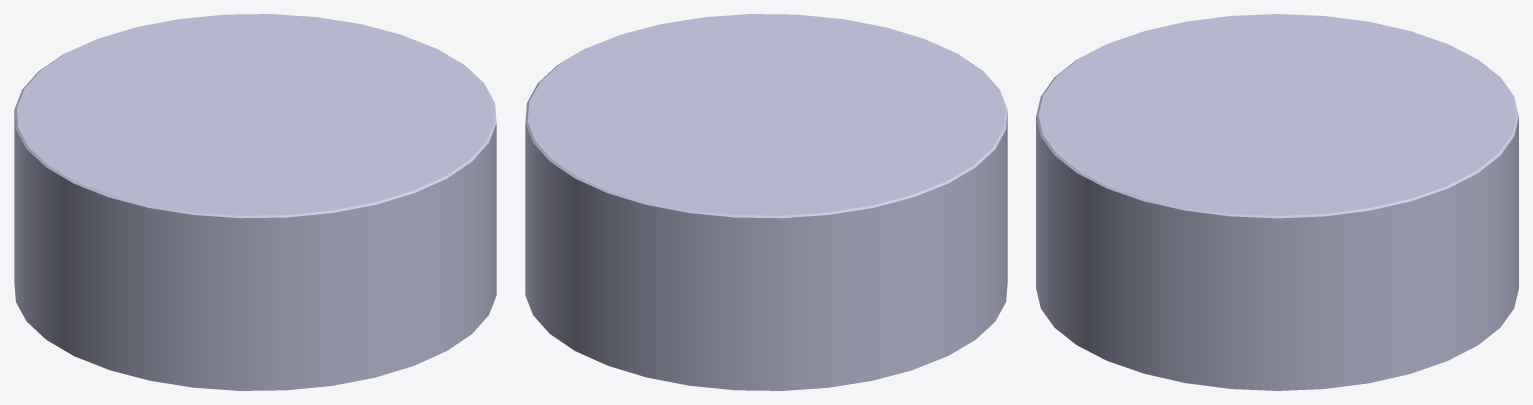
Rendered from SM_stand_4.fbx.
3 views of the same model, side by side, from view 1: azimuth 30°, elevation 25°; view 2: azimuth 150°, elevation 25°; view 3: azimuth 270°, elevation 25° (orthographic).
Parts seen in each view (by area): view 1: SM_stand_4; view 2: SM_stand_4; view 3: SM_stand_4.
Part boxes in pixels (x1,y1,x2,y2): SM_stand_4: (14,14,496,390); SM_stand_4: (525,14,1007,390); SM_stand_4: (1036,14,1518,390).
Bounding box in the file's own units: 50 × 20 × 50.
